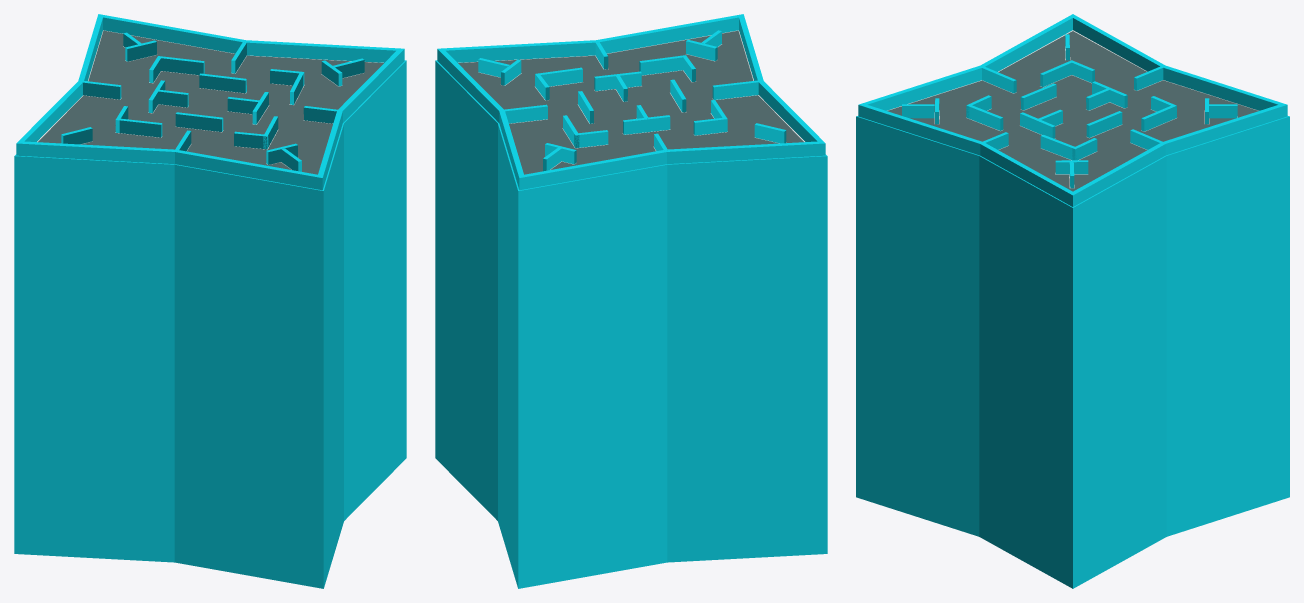
The model's file is Level_20.FBX.
3 renders of one model, left to right at view 1: azimuth 30°, elevation 25°; view 2: azimuth 150°, elevation 25°; view 3: azimuth 270°, elevation 25°, orthographic. The views are drawn at different scales.
Visible parts, largest first — view 1: Level_20; view 2: Level_20; view 3: Level_20.
Boxes of the visible parts, x1=… form: Level_20: x1=14, y1=14, x2=406, y2=588; Level_20: x1=435, y1=14, x2=827, y2=588; Level_20: x1=856, y1=14, x2=1289, y2=588.
Size of the model in its own units: 317 by 317 by 317.
